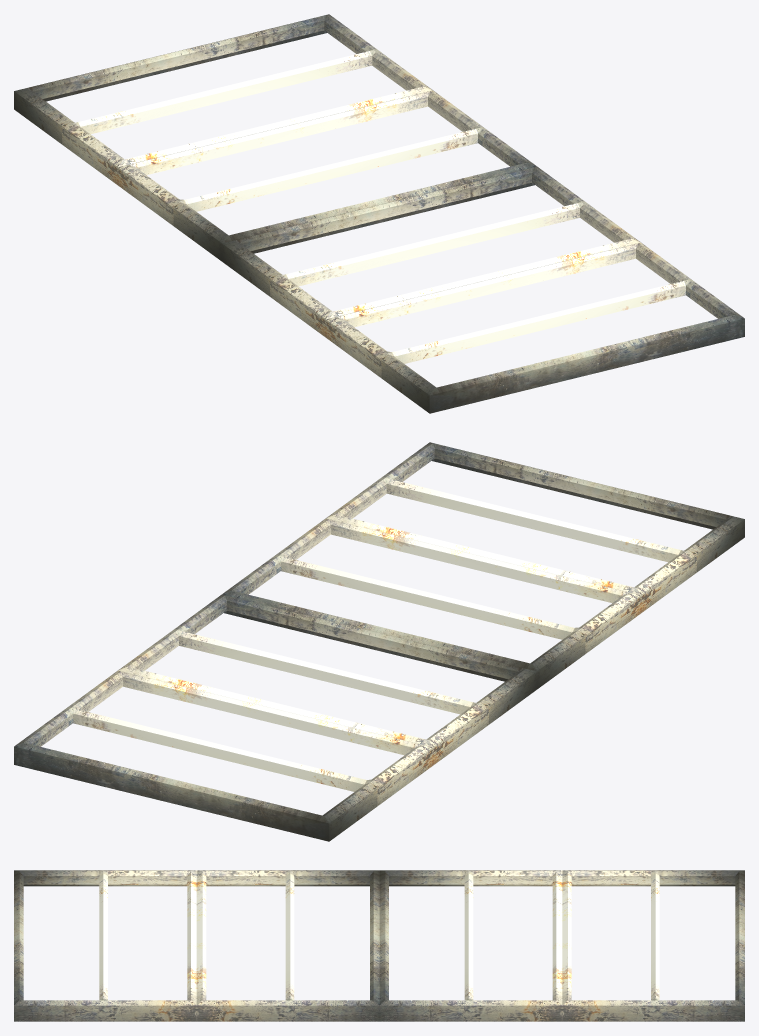
Rendered from CeilingLightFrame.fbx.
The picture shows the model from 3 angles, top to bottom: view 1: azimuth 30°, elevation 25°; view 2: azimuth 150°, elevation 25°; view 3: azimuth 270°, elevation 25°; orthographic projection. The views are drawn at different scales.
Parts seen in each view (by area): view 1: polySurface582; view 2: polySurface582; view 3: polySurface582.
Part boxes in pixels (x1=…): polySurface582: x1=14, y1=14, x2=744, y2=413; polySurface582: x1=14, y1=442, x2=744, y2=841; polySurface582: x1=14, y1=870, x2=744, y2=1021.
Bounding box in the file's own units: 41.18 × 2.66 × 94.06.
